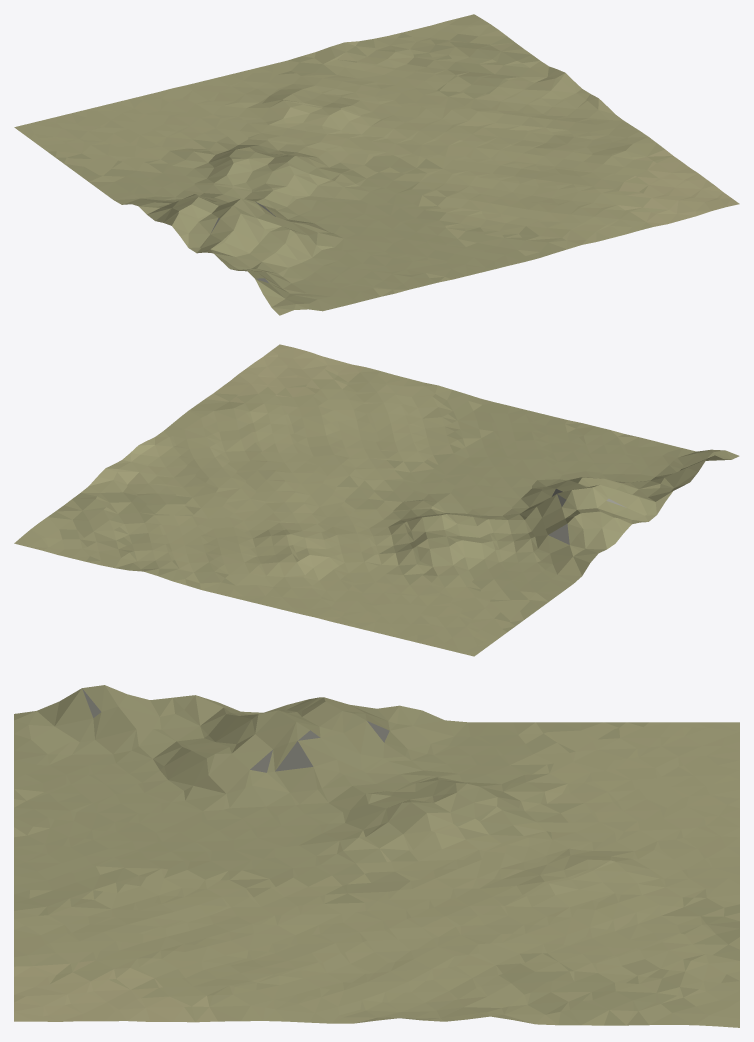
Rendered from Ground_6_1.glb.
3 renders of one model, top to bottom at view 1: azimuth 30°, elevation 25°; view 2: azimuth 150°, elevation 25°; view 3: azimuth 270°, elevation 25°, orthographic. The views are drawn at different scales.
Visible parts, largest first — view 1: Ground_6_1; view 2: Ground_6_1; view 3: Ground_6_1.
Part boxes in pixels (<box>): Ground_6_1: <box>14,14,739,315</box>; Ground_6_1: <box>14,344,739,656</box>; Ground_6_1: <box>14,685,739,1027</box>.
Bounding box in the file's own units: 768 × 53.08 × 768.
